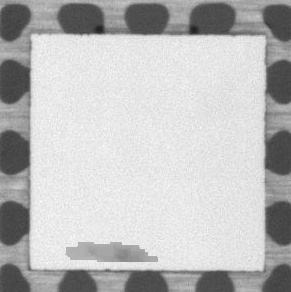DIE_INK: (61, 241, 158, 262)
